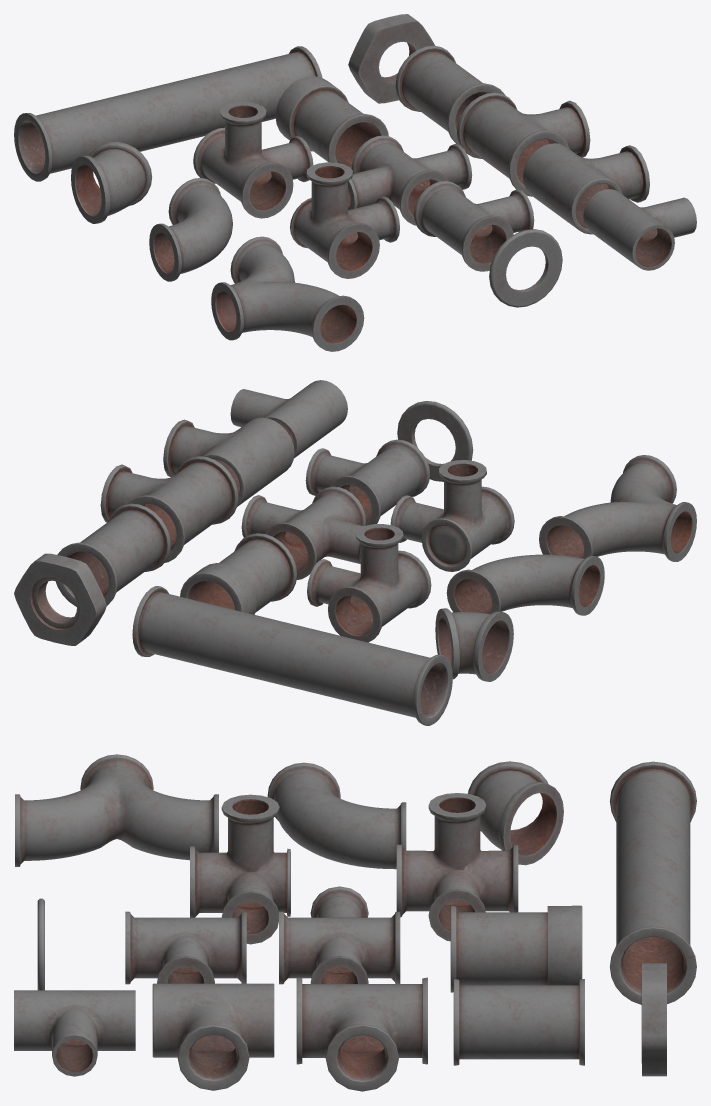
Rendered from pipe_pieces.glb.
The picture shows the model from 3 angles, top to bottom: view 1: azimuth 30°, elevation 25°; view 2: azimuth 150°, elevation 25°; view 3: azimuth 270°, elevation 25°; orthographic projection. The views are drawn at different scales.
Visible parts, largest first — view 1: PipesFittings, PipesFittings.009, PipesFittings.006, PipesFittings.007, PipesFittings.010, PipesFittings.002, PipesFittings.003, PipesFittings.005, PipesFittings.014, PipesFittings.001, PipesFittings.008, PipesFittings.011 (+3 smaller); view 2: PipesFittings, PipesFittings.009, PipesFittings.006, PipesFittings.007, PipesFittings.008, PipesFittings.010, PipesFittings.005, PipesFittings.002, PipesFittings.011, PipesFittings.014, PipesFittings.003, PipesFittings.013 (+3 smaller); view 3: PipesFittings, PipesFittings.009, PipesFittings.010, PipesFittings.002, PipesFittings.006, PipesFittings.014, PipesFittings.011, PipesFittings.007, PipesFittings.005, PipesFittings.008, PipesFittings.001, PipesFittings.003 (+3 smaller).
Boxes of the visible parts, x1,y1,x2,y2 form: PipesFittings: [14, 46, 322, 181]; PipesFittings.009: [211, 236, 364, 351]; PipesFittings.006: [193, 102, 313, 218]; PipesFittings.007: [290, 162, 399, 278]; PipesFittings.010: [456, 92, 590, 196]; PipesFittings.002: [522, 143, 649, 234]; PipesFittings.003: [413, 181, 534, 271]; PipesFittings.005: [348, 135, 472, 225]; PipesFittings.014: [275, 76, 388, 168]; PipesFittings.001: [583, 189, 696, 270]; PipesFittings.008: [149, 178, 232, 281]; PipesFittings.011: [395, 45, 505, 144]; PipesFittings: [132, 586, 452, 725]; PipesFittings.009: [539, 455, 696, 561]; PipesFittings.006: [307, 524, 431, 642]; PipesFittings.007: [390, 460, 514, 571]; PipesFittings.008: [446, 554, 604, 615]; PipesFittings.010: [100, 456, 238, 562]; PipesFittings.005: [241, 486, 365, 580]; PipesFittings.002: [163, 417, 294, 506]; PipesFittings.011: [55, 503, 170, 606]; PipesFittings.014: [180, 533, 296, 614]; PipesFittings.003: [305, 439, 429, 525]; PipesFittings.013: [14, 553, 106, 645]; PipesFittings: [609, 761, 696, 1004]; PipesFittings.009: [15, 754, 218, 866]; PipesFittings.010: [296, 977, 427, 1091]; PipesFittings.002: [152, 983, 274, 1090]; PipesFittings.006: [396, 793, 518, 941]; PipesFittings.014: [450, 905, 582, 992]; PipesFittings.011: [453, 979, 584, 1065]; PipesFittings.007: [190, 794, 290, 944]; PipesFittings.005: [279, 886, 400, 984]; PipesFittings.008: [267, 762, 406, 869]; PipesFittings.001: [14, 990, 135, 1076]; PipesFittings.003: [125, 911, 246, 984].
Bounding box in the file's own units: 0.996 × 0.2105 × 1.06.
1 material, 1 textured.
